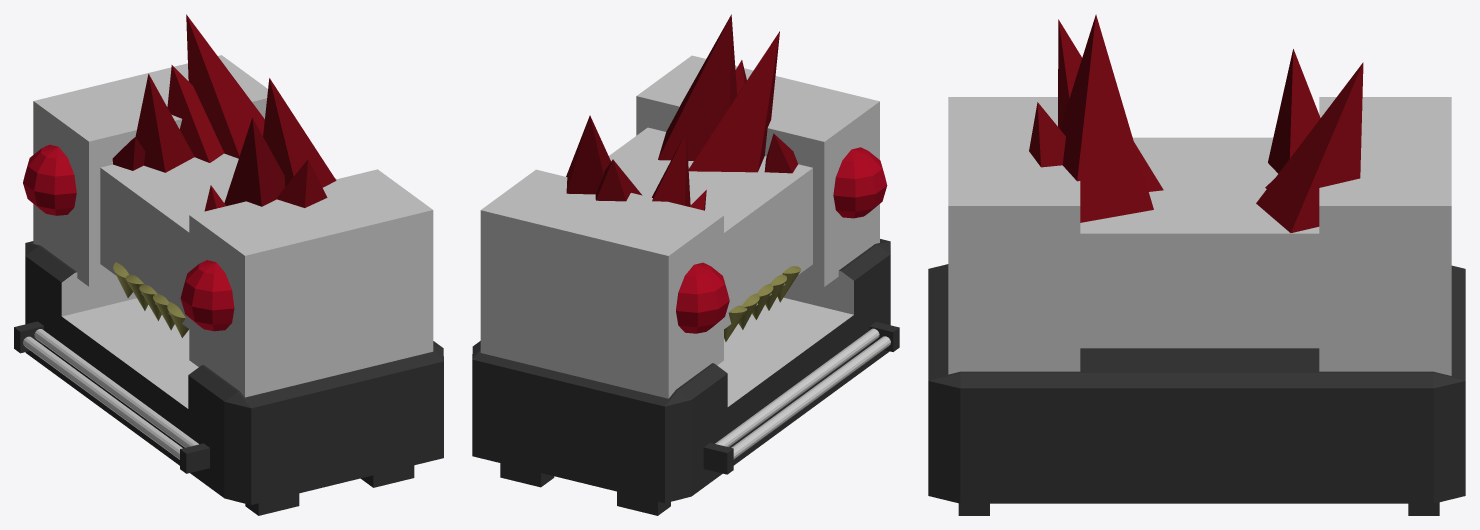
The model's file is printer.gltf.
3 views of the same model, side by side, from view 1: azimuth 30°, elevation 25°; view 2: azimuth 150°, elevation 25°; view 3: azimuth 270°, elevation 25° (orthographic). The views are drawn at different scales.
Parts seen in each view (by area): view 1: TOP, BOTTOM; view 2: TOP, BOTTOM; view 3: TOP, BOTTOM.
Part boxes in pixels (x1,y1,x2,y2): TOP: (23,14,433,397); BOTTOM: (14,241,443,515); TOP: (480,14,887,398); BOTTOM: (472,239,899,515); TOP: (948,14,1451,375); BOTTOM: (928,264,1465,515).
Size of the model in its own units: 3.32 by 4.97 by 5.36.
